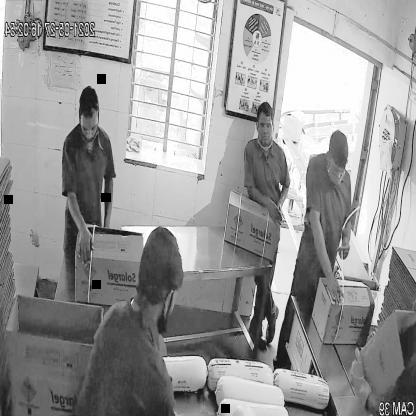no_goggles: (74, 114, 103, 138), (254, 114, 277, 136)
